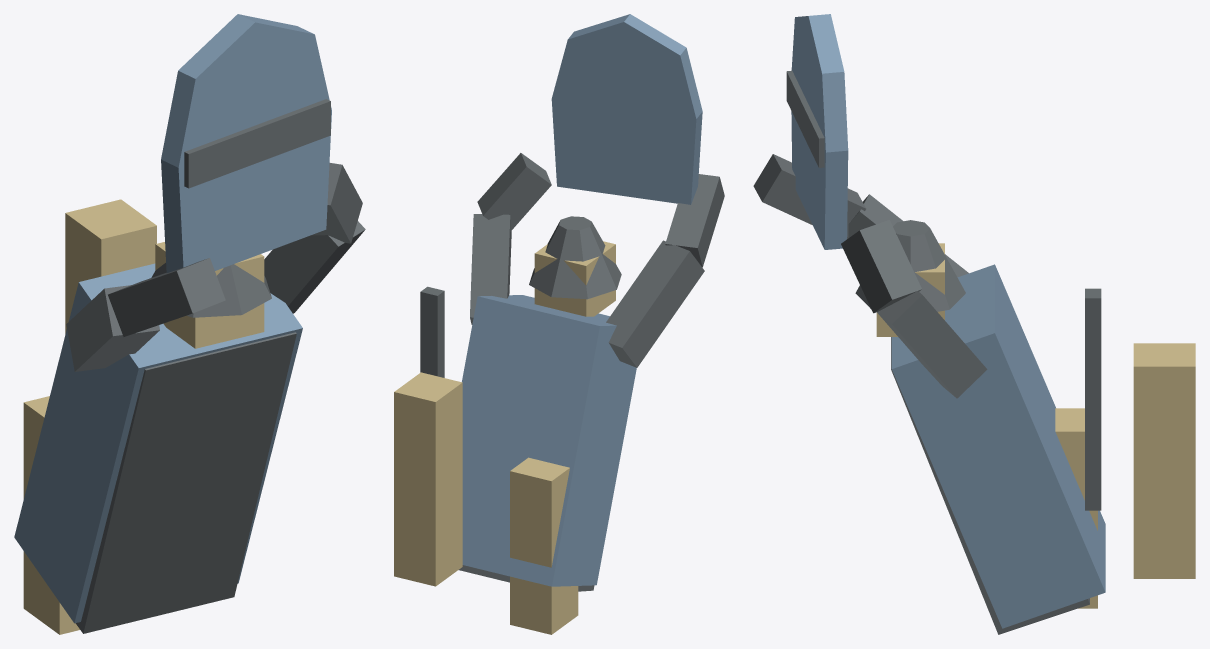
Rendered from ladder-climber.glb.
The picture shows the model from 3 angles, left to right: view 1: azimuth 30°, elevation 25°; view 2: azimuth 150°, elevation 25°; view 3: azimuth 270°, elevation 25°; orthographic projection. The views are drawn at different scales.
Parts seen in each view (by area): view 1: ladder-climber; view 2: ladder-climber; view 3: ladder-climber.
Part boxes in pixels (left/top/right/bottom): ladder-climber: left=14, top=14, right=365, bottom=634; ladder-climber: left=394, top=14, right=724, bottom=634; ladder-climber: left=753, top=14, right=1195, bottom=634.
Size of the model in its own units: 0.8537 by 2.02 by 1.36.
